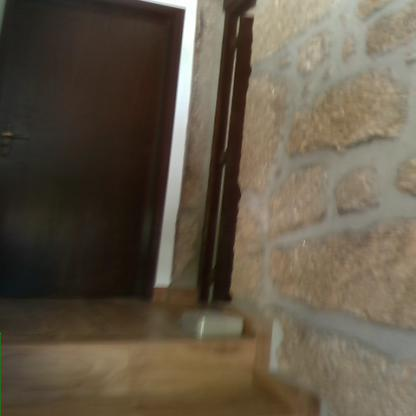door: (0, 0, 156, 298)
lever: (3, 127, 32, 141)
